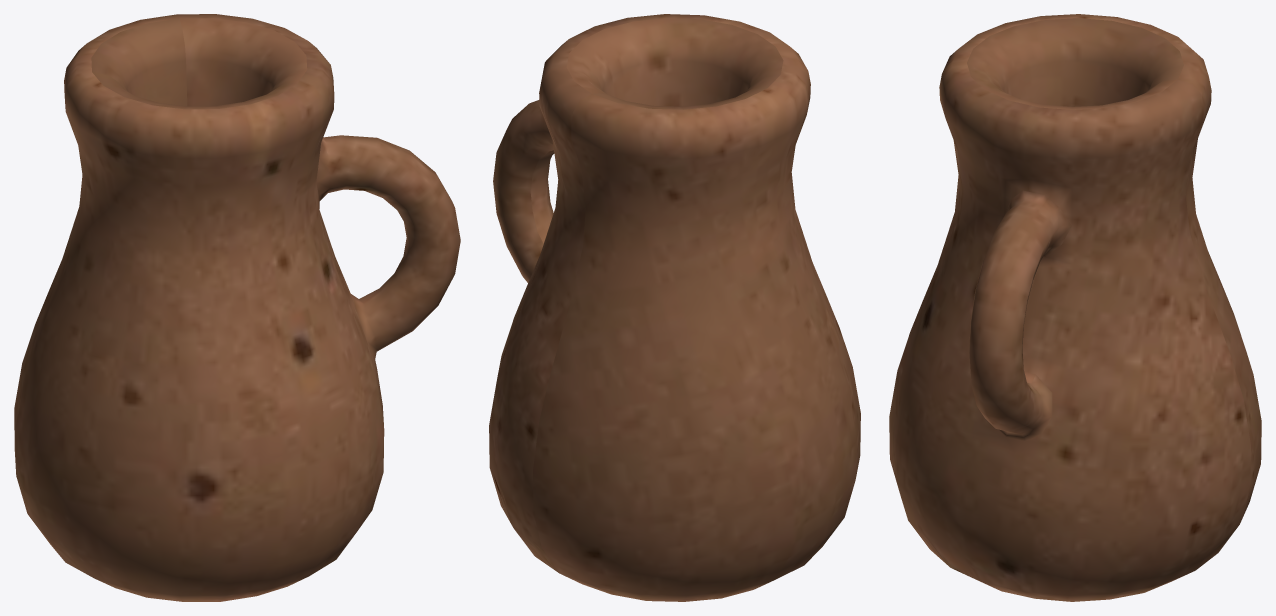
File: Pot_01.glb
The picture shows the model from 3 angles, left to right: view 1: azimuth 30°, elevation 25°; view 2: azimuth 150°, elevation 25°; view 3: azimuth 270°, elevation 25°; orthographic projection.
Parts seen in each view (by area): view 1: SM_Pot_01; view 2: SM_Pot_01; view 3: SM_Pot_01.
Part boxes in pixels (x1,y1,x2,y2): SM_Pot_01: (14, 14, 460, 601); SM_Pot_01: (489, 14, 860, 601); SM_Pot_01: (889, 14, 1261, 601).
Size of the model in its own units: 0.2317 by 0.2855 by 0.1972.
Materials: 1 (1 with a texture image).
